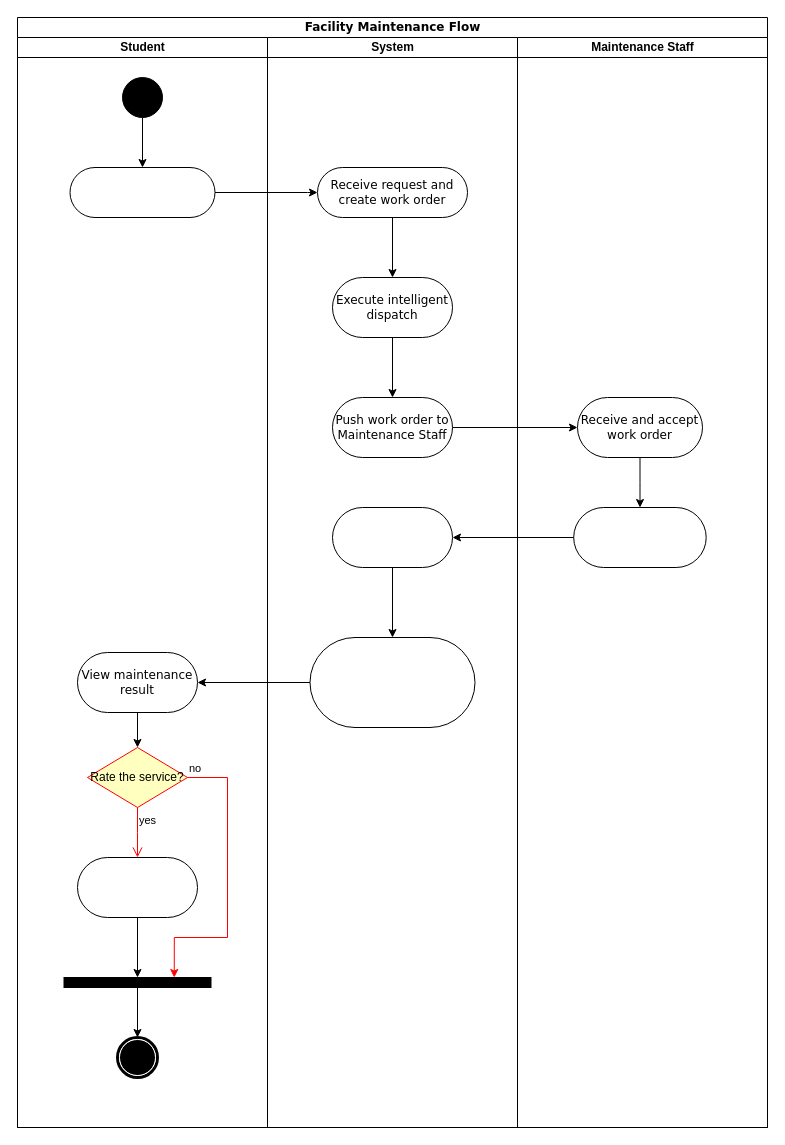
Image size: 785x1145. Some labels were removed from this diagram. Here are the shapes that lost their labels. From the top down, the centre of each, then its label:
the point at 142,192: Fill and submit maintenance request
the point at 392,537: Update order status to "Completed"
the point at 639,537: Submit maintenance completion report
the point at 392,682: Send "Maintenance Completed" notification to Student
the point at 137,887: Submit service rating and feedback
